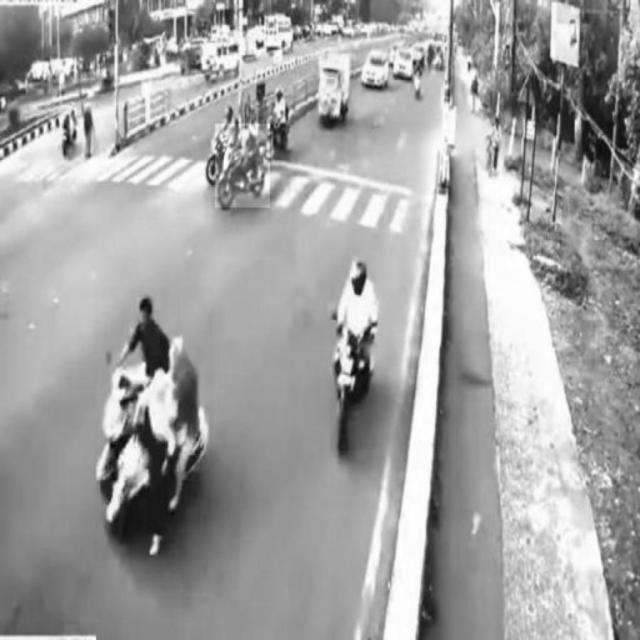accident: (94, 287, 212, 560)
vehicle: (329, 256, 377, 451), (215, 124, 271, 207), (320, 55, 355, 125)
